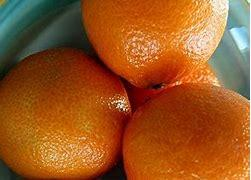orange: (0, 45, 129, 172), (110, 75, 250, 180), (72, 0, 234, 82)
